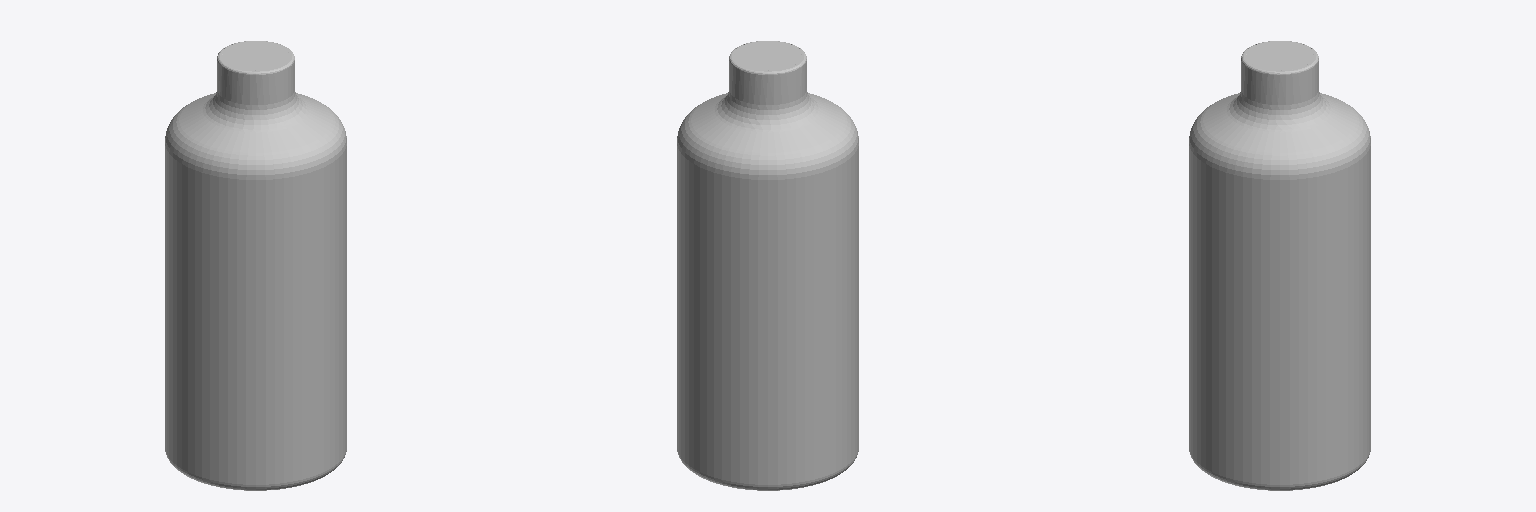
Rendered from bottle_low_poly.obj.
The picture shows the model from 3 angles: view 1: azimuth 30°, elevation 25°; view 2: azimuth 150°, elevation 25°; view 3: azimuth 270°, elevation 25°; orthographic projection.
Parts seen in each view (by area): view 1: Bottiglia\Solido; view 2: Bottiglia\Solido; view 3: Bottiglia\Solido.
Part boxes in pixels (bbox=[...]): Bottiglia\Solido: bbox=[165, 41, 346, 490]; Bottiglia\Solido: bbox=[677, 41, 858, 490]; Bottiglia\Solido: bbox=[1189, 41, 1370, 490].
Size of the model in its own units: 0.07 by 0.1693 by 0.07.